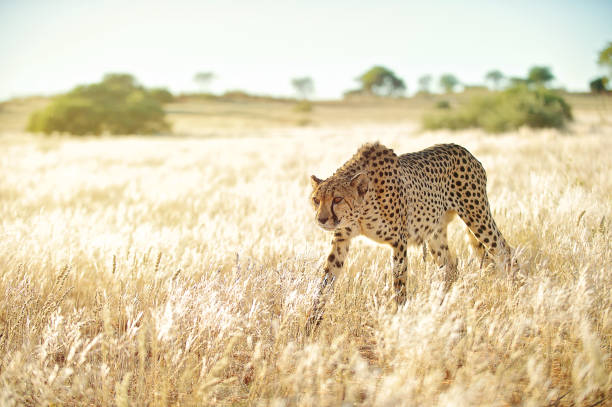cheetah: (298, 166, 374, 235)
